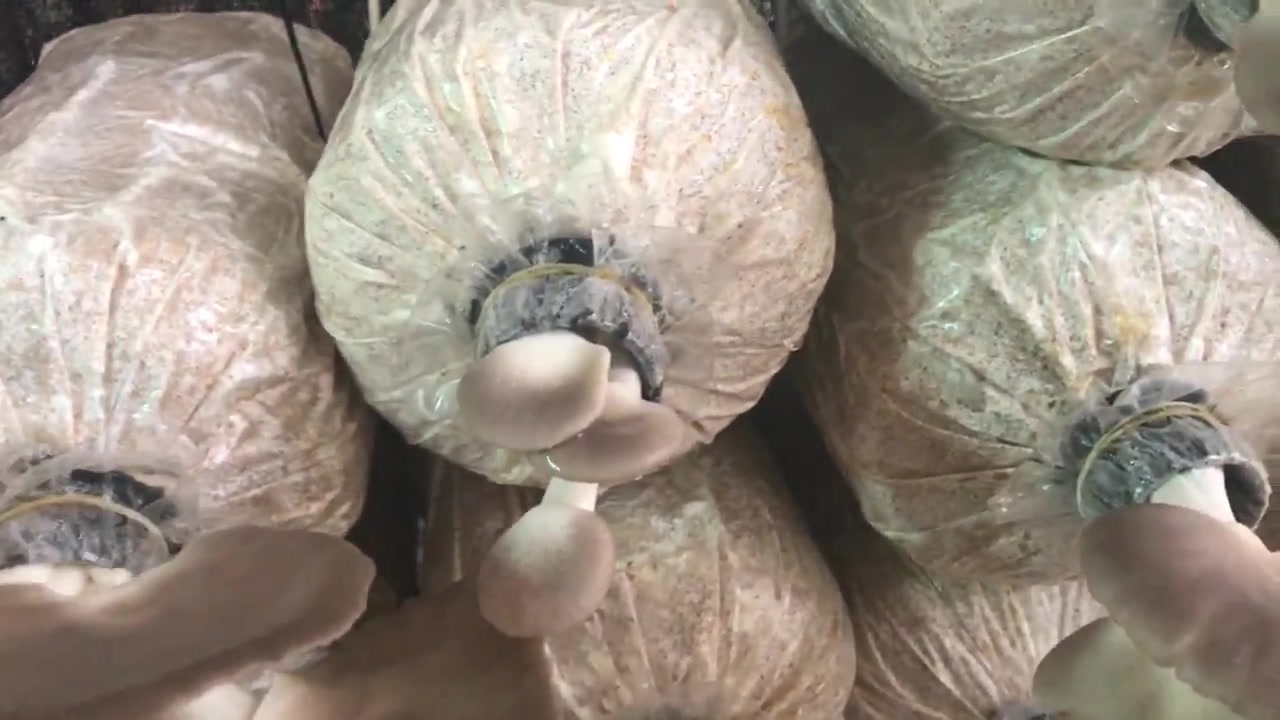nam: (1, 498, 548, 720), (455, 271, 683, 637), (1038, 407, 1278, 720)
